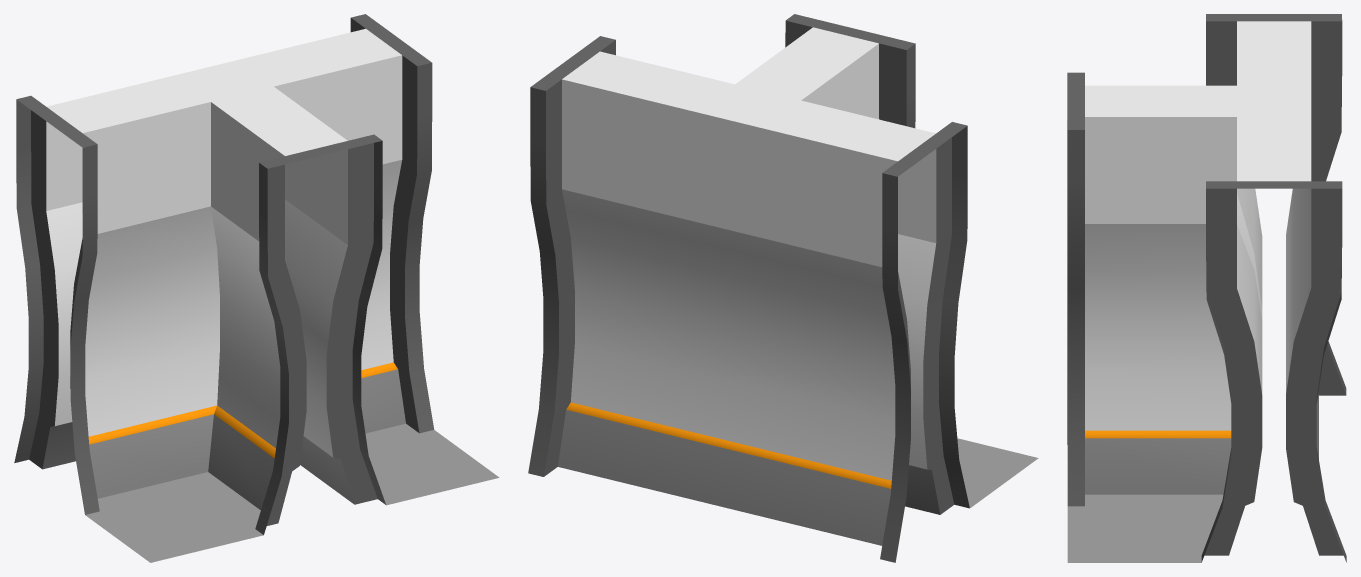
Rendered from SM_ExteriorWall_T_03.fbx.
The picture shows the model from 3 angles, left to right: view 1: azimuth 30°, elevation 25°; view 2: azimuth 150°, elevation 25°; view 3: azimuth 270°, elevation 25°; orthographic projection. The views are drawn at different scales.
Parts seen in each view (by area): view 1: SM_ExteriorWall_T_03; view 2: SM_ExteriorWall_T_03; view 3: SM_ExteriorWall_T_03.
Part boxes in pixels (box(x1,y1,x2,y2)): SM_ExteriorWall_T_03: box(14, 14, 499, 562); SM_ExteriorWall_T_03: box(528, 14, 1038, 562); SM_ExteriorWall_T_03: box(1067, 14, 1346, 562).
Bounding box in the file's own units: 200 × 200 × 135.
